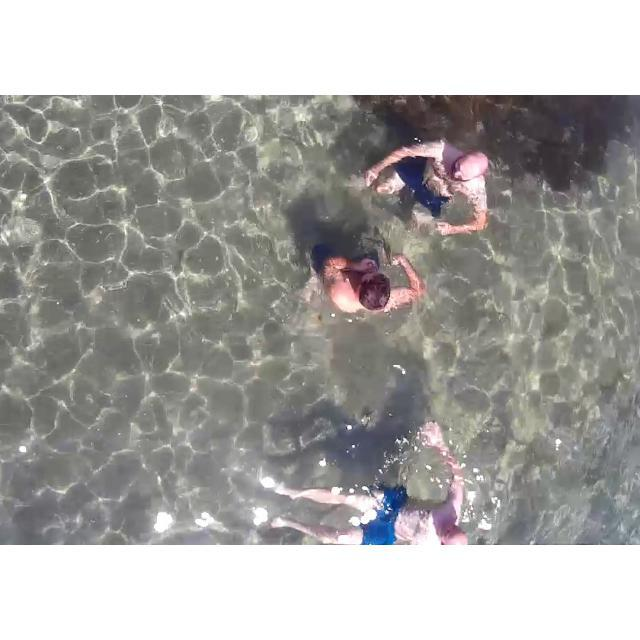human: (364, 128, 496, 248), (298, 224, 426, 330)
